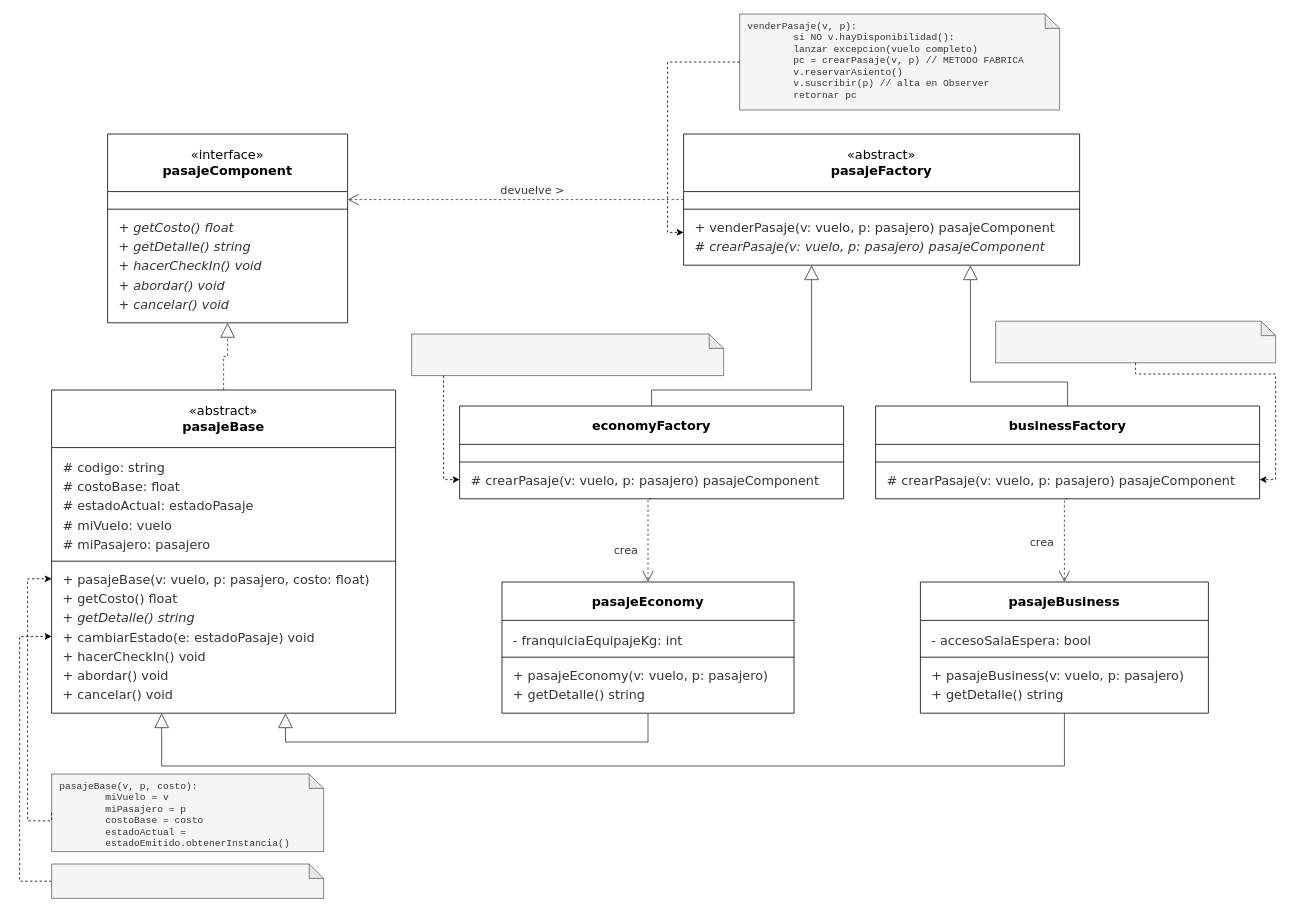
The diagram is 1296 pixels wide and 913 high, and some of its shapes have lost their labels. Each missing label, with the centre of its shape:
"cambiarEstado(e): estadoActual = e" goes at [187,880].
"crearPasaje(v, p): retornar new pasajeBusiness(v, p)" goes at [1135,341].
"crearPasaje(v, p): retornar new pasajeEconomy(v, p)" goes at [567,354].
